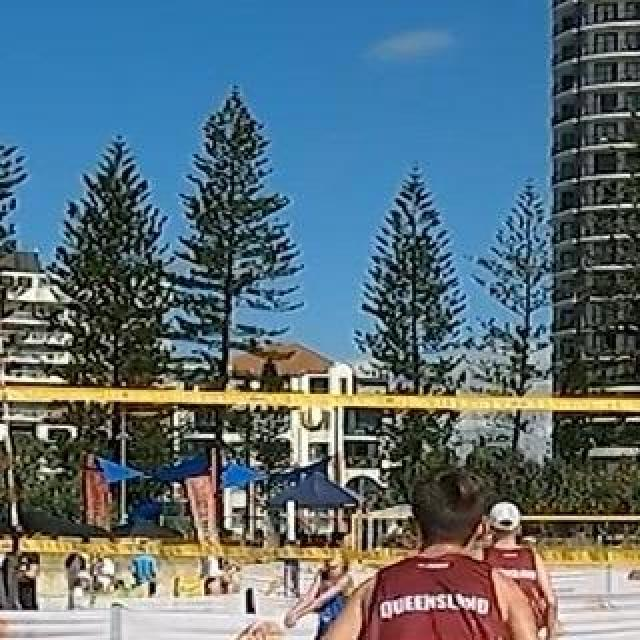volleyball: (298, 403, 326, 431)
